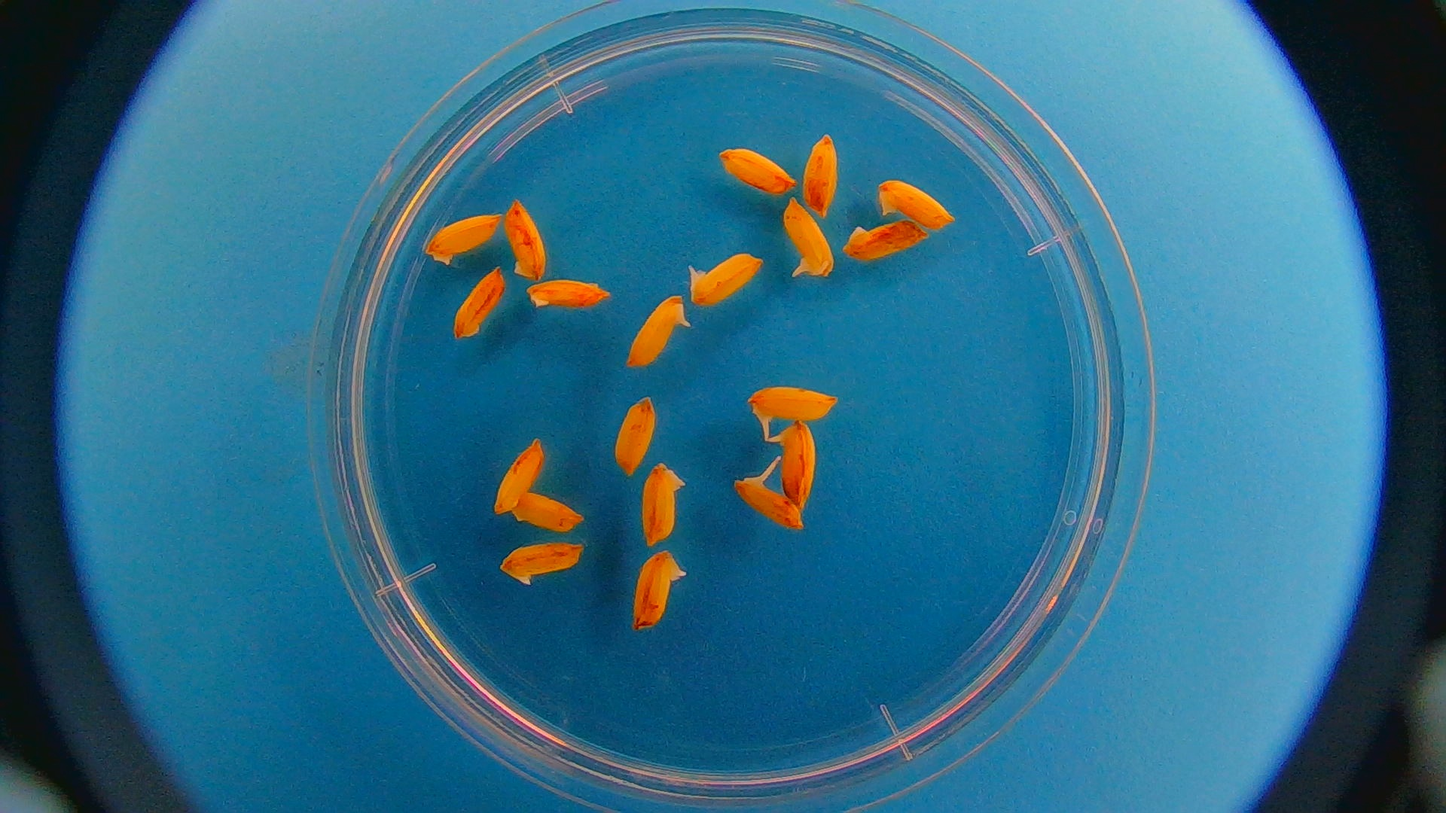no: (625, 542, 687, 650), (419, 201, 505, 273), (634, 458, 695, 551), (871, 170, 958, 229), (490, 541, 593, 589), (712, 142, 799, 198), (603, 395, 660, 480), (447, 266, 508, 345), (487, 437, 546, 518), (501, 196, 554, 286), (842, 216, 930, 265), (800, 132, 847, 222), (508, 485, 590, 534), (526, 276, 613, 315)
yes: (778, 199, 837, 278), (623, 297, 685, 367), (778, 422, 826, 510), (735, 476, 805, 534), (689, 246, 760, 303), (749, 382, 834, 424)
